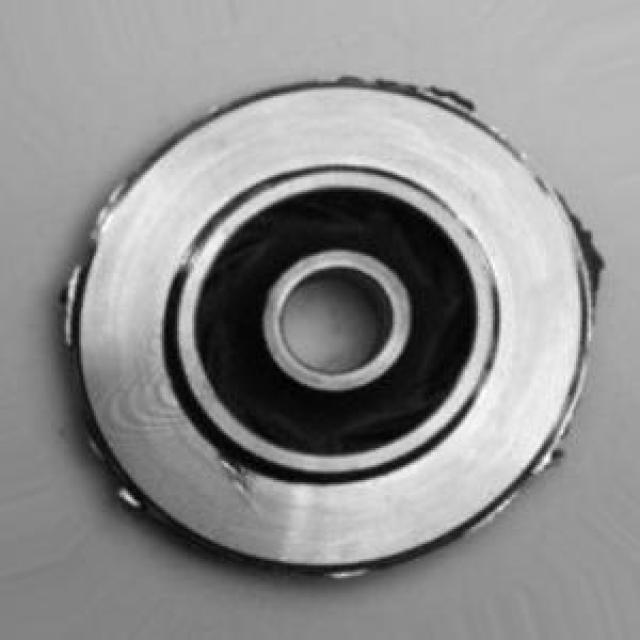Defect: (422, 78, 481, 117)
